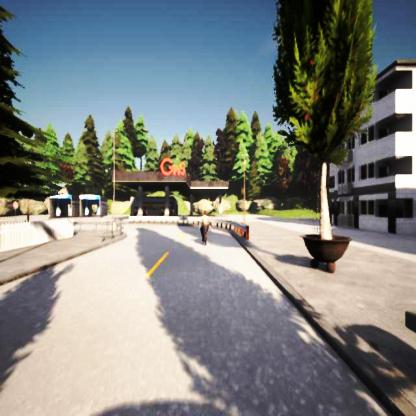motobike: (200, 214, 211, 244)
